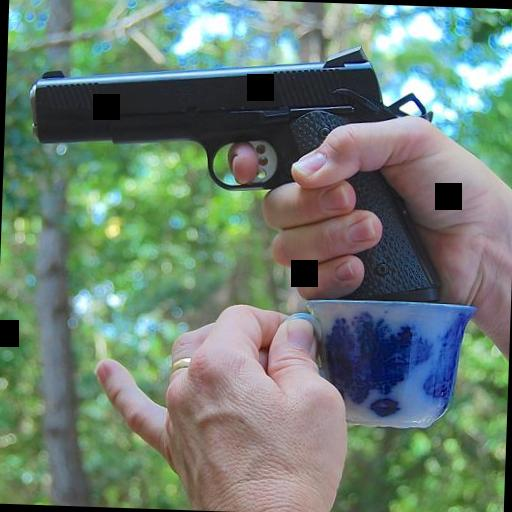Handgun: (20, 31, 446, 300)
